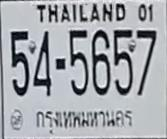4: (32, 30, 52, 96)
5: (69, 28, 90, 97), (114, 29, 133, 97), (10, 30, 29, 97)
6: (92, 28, 111, 97)
7: (136, 29, 156, 96)
BKK: (31, 107, 134, 137)
